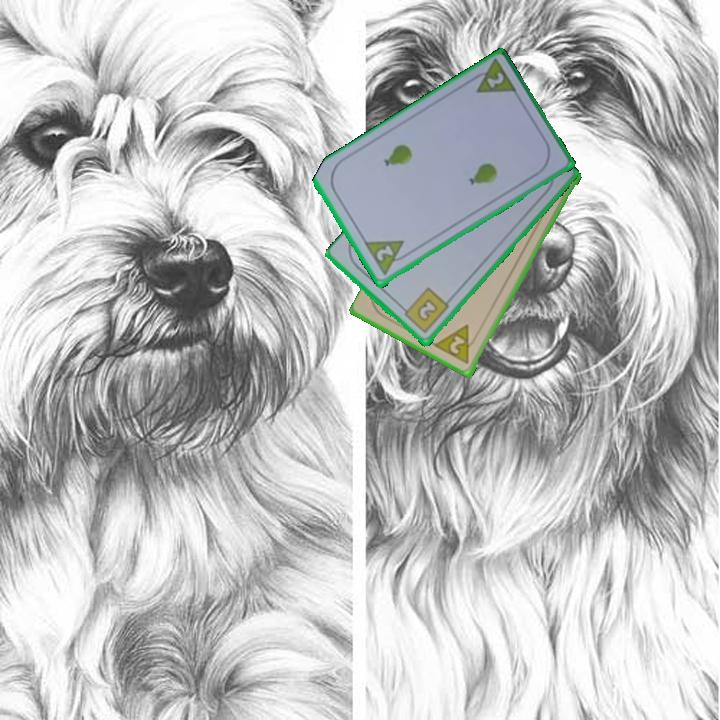2b: (397, 285, 452, 336)
2p: (432, 321, 481, 367), (361, 237, 414, 279), (465, 57, 520, 97)
